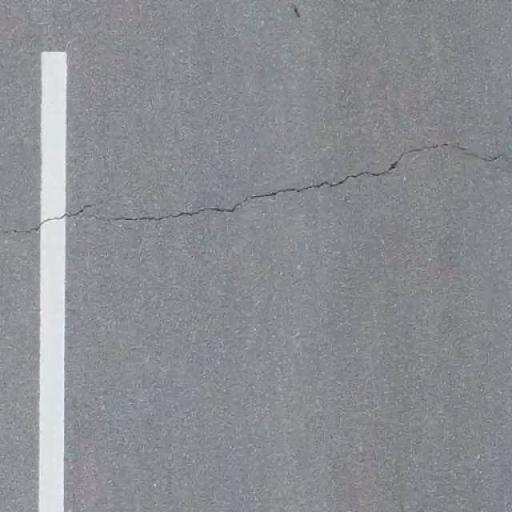moderate crack: (22, 122, 492, 244)
